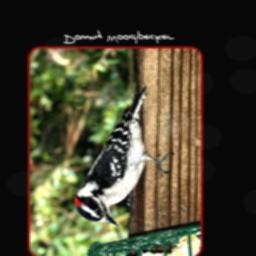Woodpecker: (73, 88, 177, 227)
